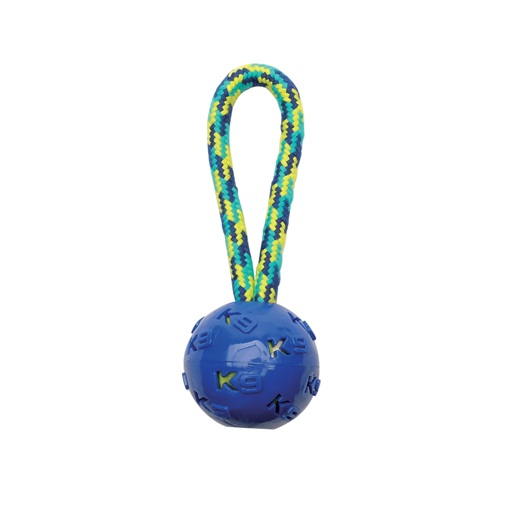blue ball: (182, 299, 323, 430)
